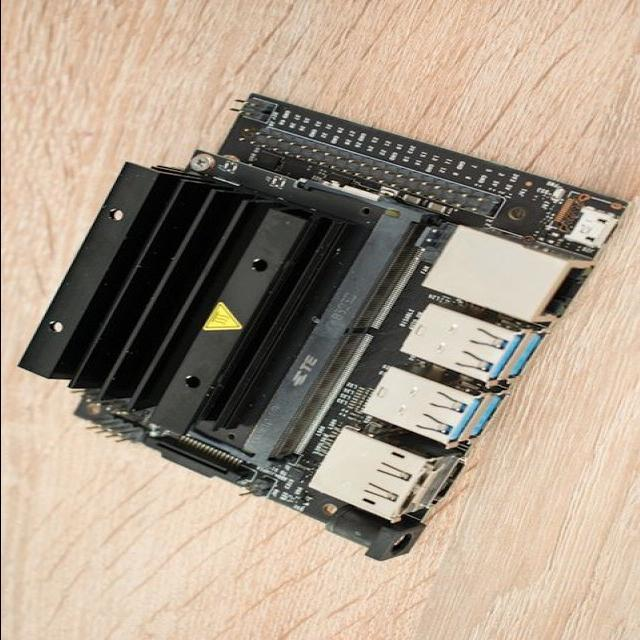Jetson Nano: (18, 92, 630, 565)
